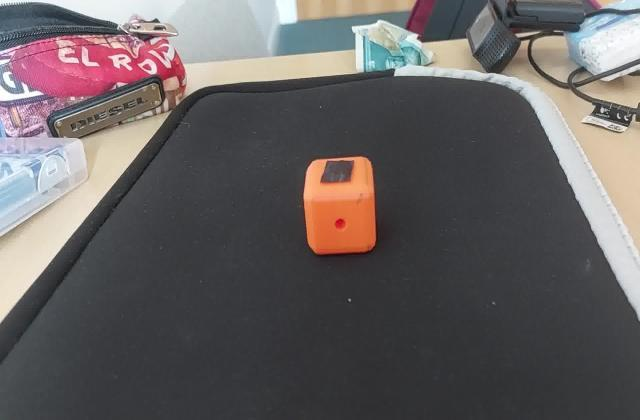black: (316, 158, 360, 184)
cube: (304, 154, 381, 259)
